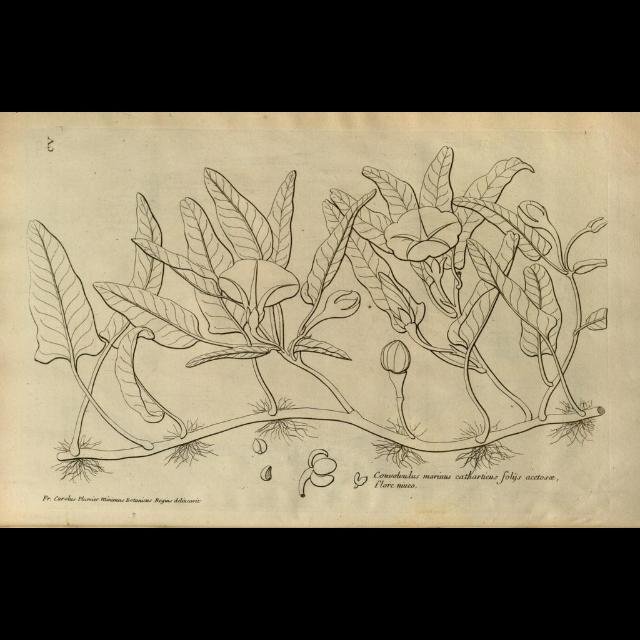Flower: (216, 262, 300, 318), (383, 206, 462, 262)
